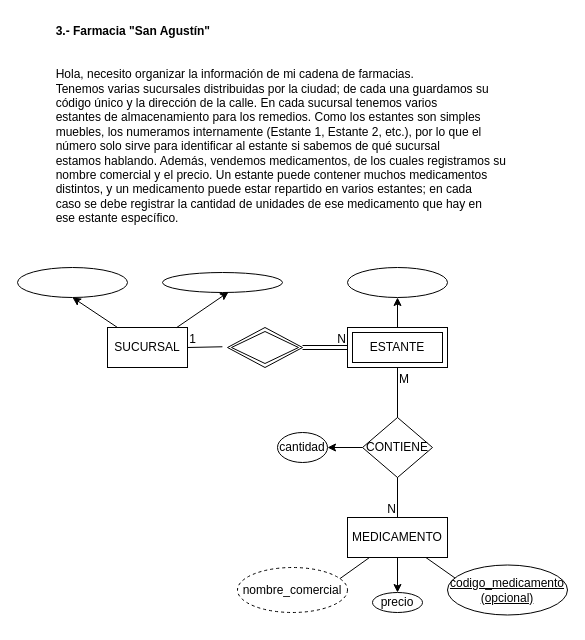
This 585x640 diagram has some shape labels left out. The centre of each missing label's shape, as x and y in pixels:
codigo_sucursal: pixel 72 282
direccion_calle: pixel 222 282
numero_estante: pixel 397 282
TIENE: pixel 264 347
